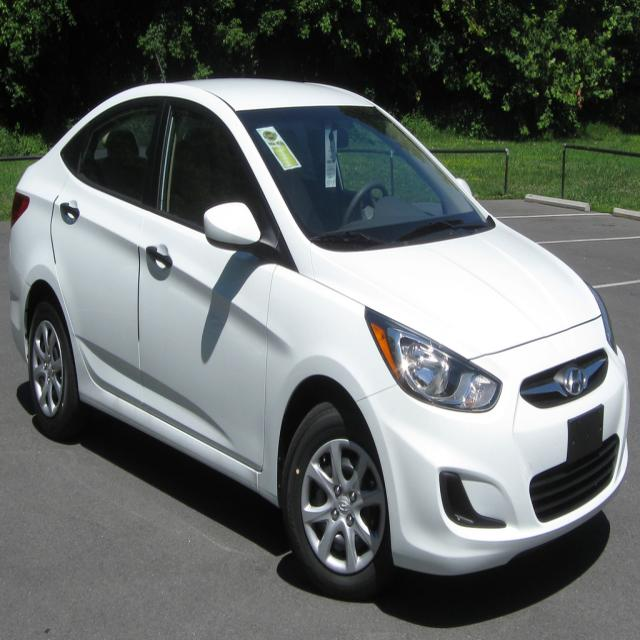car: (12, 92, 622, 593)
